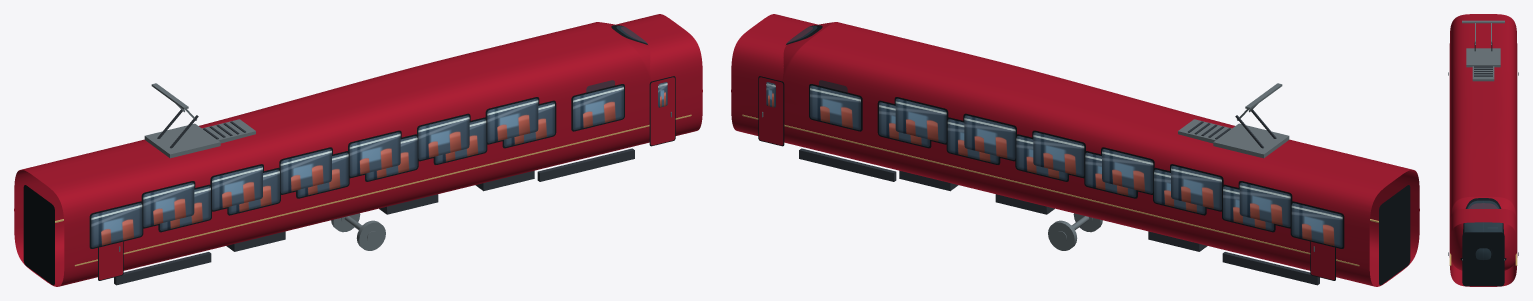
File: hinotori.glb
3 views of the same model, side by side, from view 1: azimuth 30°, elevation 25°; view 2: azimuth 150°, elevation 25°; view 3: azimuth 270°, elevation 25° (orthographic). The views are drawn at different scales.
Visible parts, largest first — view 1: cab-shell__CAB_PAINT, car-shell__CAB_PAINT, body__PASSENGER_GLASS, body__PASSENGER_GLASS.001, body__RUBBER, body__RUBBER.001, body__MACHINERY, pantograph__STAINLESS, body__CAB_PAINT.001, body__LIVERY_1.001, underfloor-housing__MACHINERY, wheel-axle (+3 smaller); view 2: cab-shell__CAB_PAINT, car-shell__CAB_PAINT, body__PASSENGER_GLASS, body__PASSENGER_GLASS.001, body__RUBBER, body__RUBBER.001, body__MACHINERY, pantograph__STAINLESS, body__CAB_PAINT.001, underfloor-housing__MACHINERY, body__LIVERY_1.001, wheel-axle (+2 smaller); view 3: cab-shell__CAB_PAINT, car-shell__CAB_PAINT, body__RUBBER.001, pantograph__STAINLESS, cab-window-glazing__CAB_GLASS, body__CAB_CONSOLE, body__STAINLESS, cab-window-gasket__RUBBER, body__MACHINERY.001, body__MACHINERY, body__LIVERY_1.001.
Boxes of the visible parts, <box> form: cab-shell__CAB_PAINT: <box>14,22,651,286</box>; car-shell__CAB_PAINT: <box>14,14,702,286</box>; body__PASSENGER_GLASS: <box>143,98,538,226</box>; body__PASSENGER_GLASS.001: <box>91,82,667,247</box>; body__RUBBER: <box>23,97,539,284</box>; body__RUBBER.001: <box>23,76,675,285</box>; body__MACHINERY: <box>114,122,634,285</box>; pantograph__STAINLESS: <box>144,83,220,158</box>; body__CAB_PAINT.001: <box>650,77,674,145</box>; body__LIVERY_1.001: <box>55,114,691,266</box>; underfloor-housing__MACHINERY: <box>234,175,531,251</box>; wheel-axle: <box>331,213,385,250</box>; cab-shell__CAB_PAINT: <box>782,22,1419,286</box>; car-shell__CAB_PAINT: <box>731,14,1419,286</box>; body__PASSENGER_GLASS: <box>895,98,1290,226</box>; body__PASSENGER_GLASS.001: <box>766,82,1342,247</box>; body__RUBBER: <box>894,97,1410,285</box>; body__RUBBER.001: <box>758,76,1410,282</box>; body__MACHINERY: <box>799,122,1319,285</box>; pantograph__STAINLESS: <box>1213,83,1289,158</box>; body__CAB_PAINT.001: <box>759,77,783,145</box>; underfloor-housing__MACHINERY: <box>899,171,1199,251</box>; body__LIVERY_1.001: <box>742,114,1378,266</box>; wheel-axle: <box>1048,213,1102,250</box>; cab-shell__CAB_PAINT: <box>1449,14,1517,270</box>; car-shell__CAB_PAINT: <box>1449,15,1517,286</box>; body__RUBBER.001: <box>1462,232,1504,286</box>; pantograph__STAINLESS: <box>1462,20,1504,67</box>; cab-window-glazing__CAB_GLASS: <box>1464,200,1502,259</box>; body__CAB_CONSOLE: <box>1465,222,1501,231</box>; body__STAINLESS: <box>1448,66,1518,81</box>; cab-window-gasket__RUBBER: <box>1463,198,1503,233</box>; body__MACHINERY.001: <box>1474,66,1492,75</box>; body__MACHINERY: <box>1474,69,1492,76</box>; body__LIVERY_1.001: <box>1449,253,1517,265</box>.
Bounding box in the file's own units: 20.55 × 5.86 × 2.93.
Materials: 10 (1 with a texture image).
